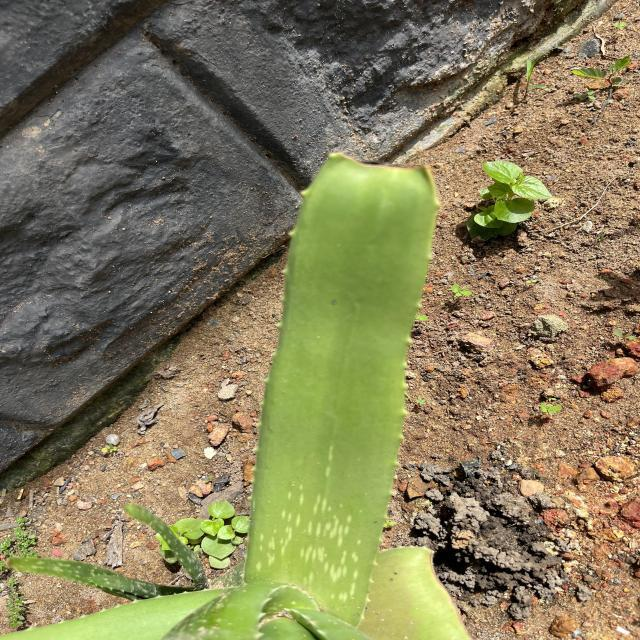Aloe vera: (236, 150, 442, 614)
